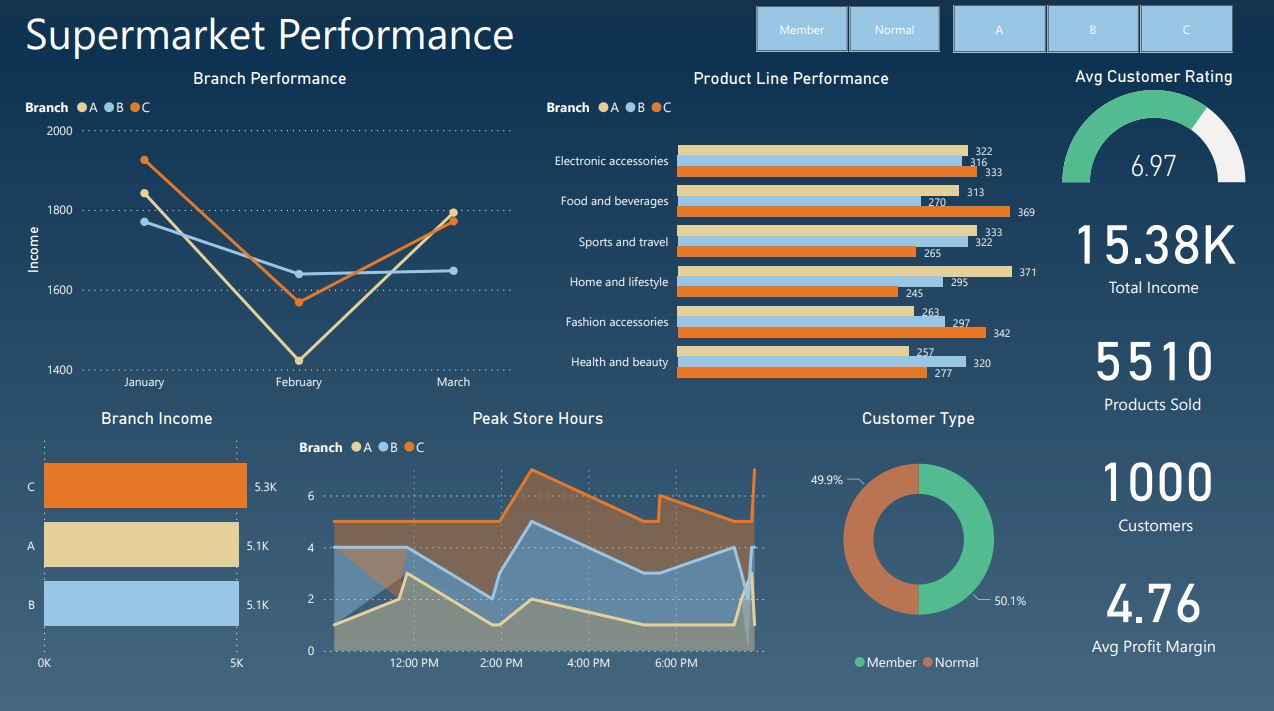

The page's visual inventory and layout, read from the dashboard file:
{"tool":"powerbi","page":{"name":"Page 1","canvas":[1280,720],"ordinal":0},"visuals":[{"type":"textbox","box":[25.3,0,515.1,70],"z":0},{"type":"gauge","title":"Avg Customer Rating","fields":{"MaxValue":["Max(supermarket_sales - Sheet1.Rating)"],"Y":["Avg(supermarket_sales - Sheet1.Rating)"]},"box":[1058.8,68,200.2,120.5],"z":0,"group":"g1"},{"type":"group","id":"g1","title":"Group 1","box":[1057.4,68,203.1,478.2],"z":7,"group":"g2"},{"type":"card","fields":{"Values":["Avg(supermarket_sales - Sheet1.gross margin percentage)"]},"box":[1058,548.1,200.2,119.5],"z":12,"group":"g2"},{"type":"lineChart","title":"Branch Performance","fields":{"Series":["supermarket_sales - Sheet1.Branch"],"Category":["supermarket_sales - Sheet1.Date.Variation.Date Hierarchy.Month"],"Y":["Sum(supermarket_sales - Sheet1.gross income)"]},"box":[25.3,70,499.6,331.4],"z":1000},{"type":"card","fields":{"Values":["Sum(supermarket_sales - Sheet1.gross income)"]},"box":[1058.4,190.5,200.2,119.5],"z":1000,"group":"g1"},{"type":"clusteredBarChart","title":"Branch Income","fields":{"Category":["supermarket_sales - Sheet1.Branch"],"Y":["Sum(supermarket_sales - Sheet1.gross income)"]},"box":[25.3,409.2,274.1,273.1],"z":2000},{"type":"card","fields":{"Values":["CountNonNull(supermarket_sales - Sheet1.Customer type)"]},"box":[1060.3,426.7,200.2,119.5],"z":2000,"group":"g1"},{"type":"clusteredBarChart","title":"Product Line Performance","fields":{"Category":["supermarket_sales - Sheet1.Product line"],"Y":["Sum(supermarket_sales - Sheet1.Quantity)"],"Series":["supermarket_sales - Sheet1.Branch"]},"box":[546.2,70,499.6,331.4],"z":3000},{"type":"card","fields":{"Values":["Sum(supermarket_sales - Sheet1.Quantity)"]},"box":[1057.4,306.1,200.2,120.5],"z":3000,"group":"g1"},{"type":"stackedAreaChart","title":"Peak Store Hours","fields":{"Category":["supermarket_sales - Sheet1.Time"],"Y":["CountNonNull(supermarket_sales - Sheet1.Customer type)"],"Series":["supermarket_sales - Sheet1.Branch"]},"box":[299.3,409.2,486.9,273.1],"z":4000},{"type":"donutChart","title":"Customer Type","fields":{"Category":["supermarket_sales - Sheet1.Customer type"],"Y":["CountNonNull(supermarket_sales - Sheet1.Customer type)"]},"box":[786.3,409.2,274.1,273.1],"z":5000},{"type":"group","id":"g2","title":"Group 2","box":[1057.4,68,203.1,599.6],"z":6000},{"type":"slicer","fields":{"Values":["supermarket_sales - Sheet1.Branch"]},"box":[932.1,0,328.5,61.2],"z":6001},{"type":"slicer","fields":{"Values":["supermarket_sales - Sheet1.Customer type"]},"box":[734.8,1,233.3,59.3],"z":6002}]}

Visuals, with their boxes in screenshot pixels (x1, y1, x2, y2), scaled from the page's 1280x720 canvas onto the 1274x711 screenshot:
textbox: left=25, top=0, right=538, bottom=69
"Avg Customer Rating" gauge: left=1054, top=67, right=1253, bottom=186
"Group 1" group: left=1052, top=67, right=1255, bottom=539
card - Avg(supermarket_sales - Sheet1.gross margin percentage): left=1053, top=541, right=1252, bottom=659
"Branch Performance" lineChart: left=25, top=69, right=522, bottom=396
card - Sum(supermarket_sales - Sheet1.gross income): left=1053, top=188, right=1253, bottom=306
"Branch Income" clusteredBarChart: left=25, top=404, right=298, bottom=674
card - CountNonNull(supermarket_sales - Sheet1.Customer type): left=1055, top=421, right=1255, bottom=539
"Product Line Performance" clusteredBarChart: left=544, top=69, right=1041, bottom=396
card - Sum(supermarket_sales - Sheet1.Quantity): left=1052, top=302, right=1252, bottom=421
"Peak Store Hours" stackedAreaChart: left=298, top=404, right=783, bottom=674
"Customer Type" donutChart: left=783, top=404, right=1055, bottom=674
"Group 2" group: left=1052, top=67, right=1255, bottom=659
slicer - supermarket_sales - Sheet1.Branch: left=928, top=0, right=1255, bottom=60
slicer - supermarket_sales - Sheet1.Customer type: left=731, top=1, right=964, bottom=60
